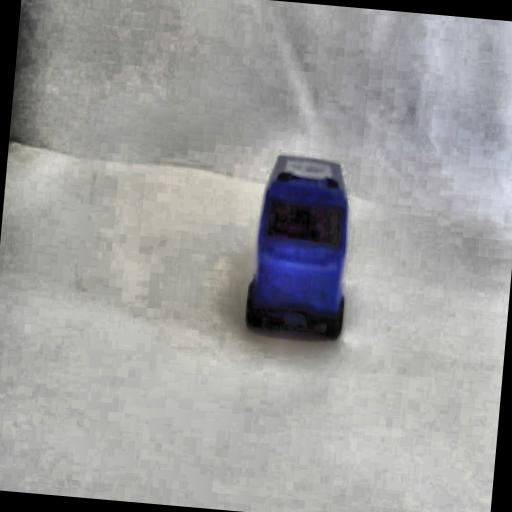police car: (242, 143, 364, 346)
